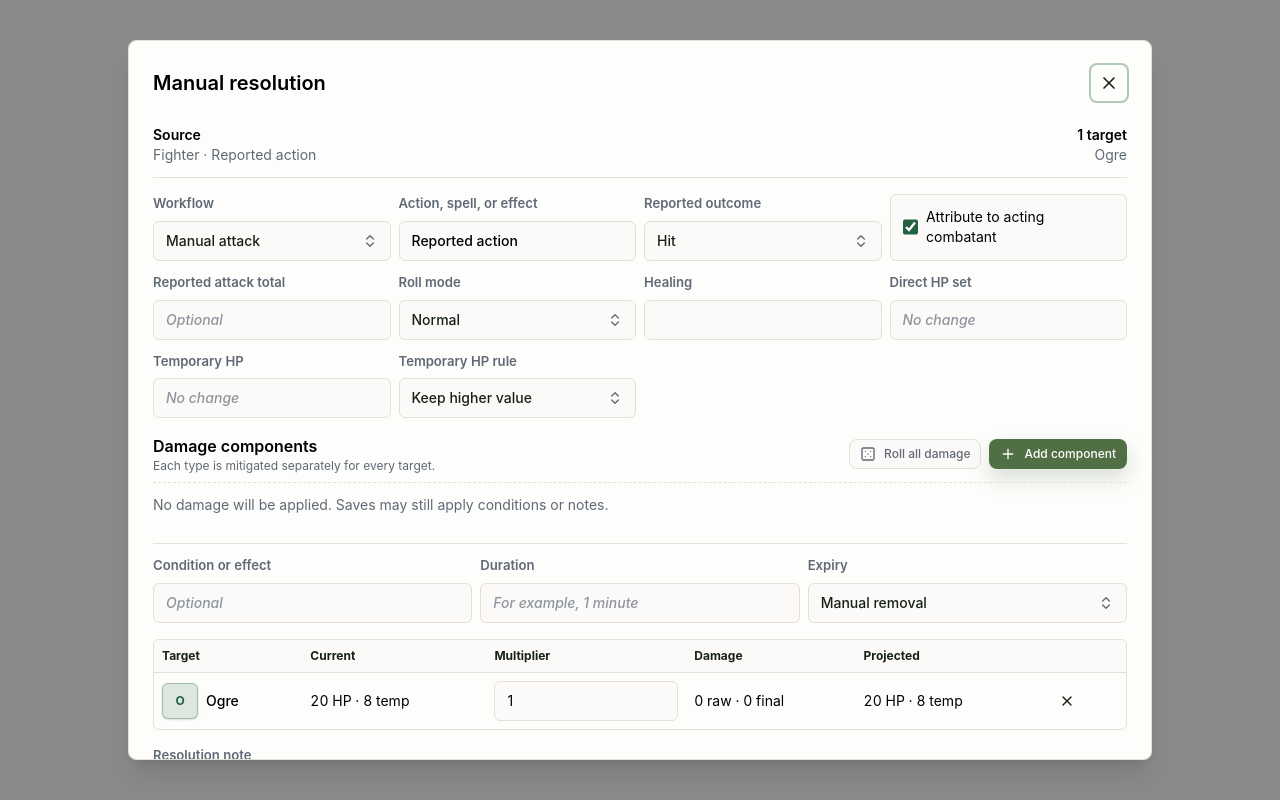
Test: ManualResolutionDialog › requires confirmation before replacing higher temporary HP
In the number field labelled "Temporary HP": (272, 398) x1=153 y1=378 x2=390 y2=418, type "3"
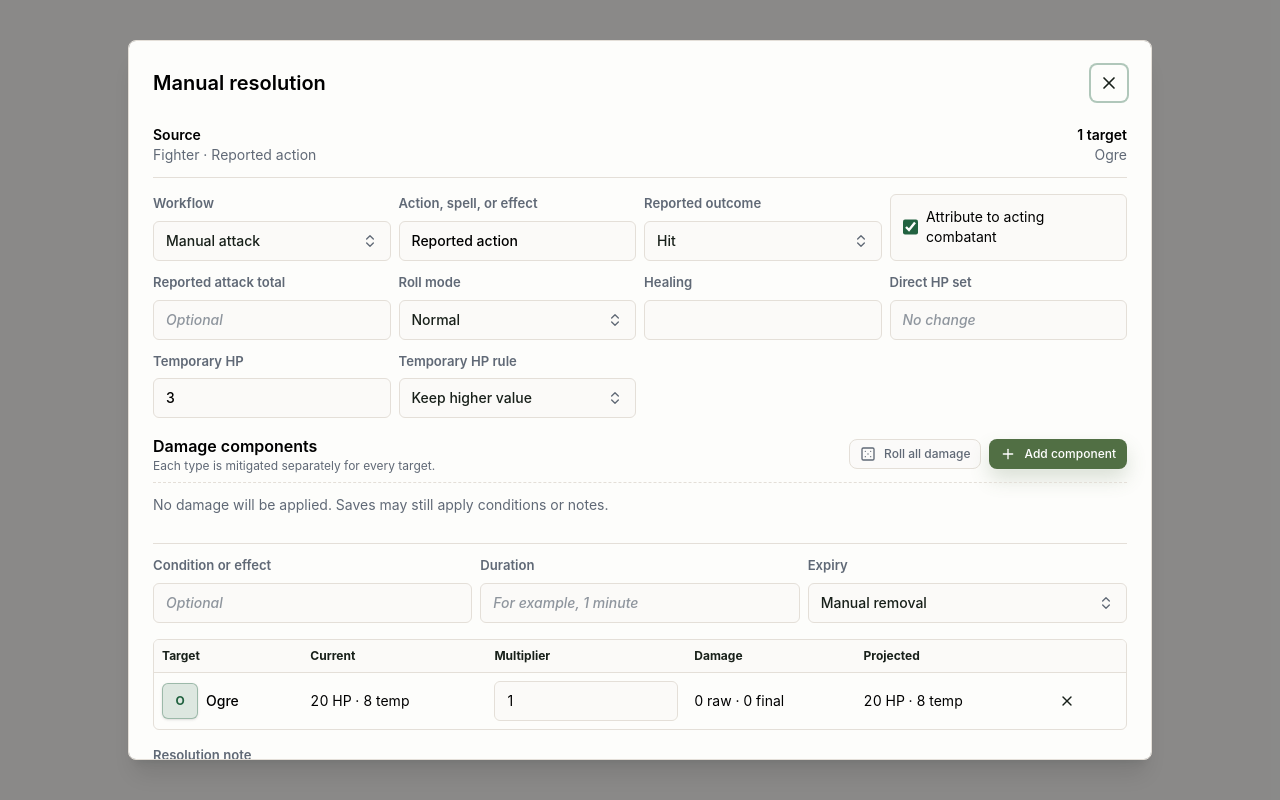
Click the dropdown labelled "Keep higher value": click(517, 398) x1=398 y1=378 x2=636 y2=418
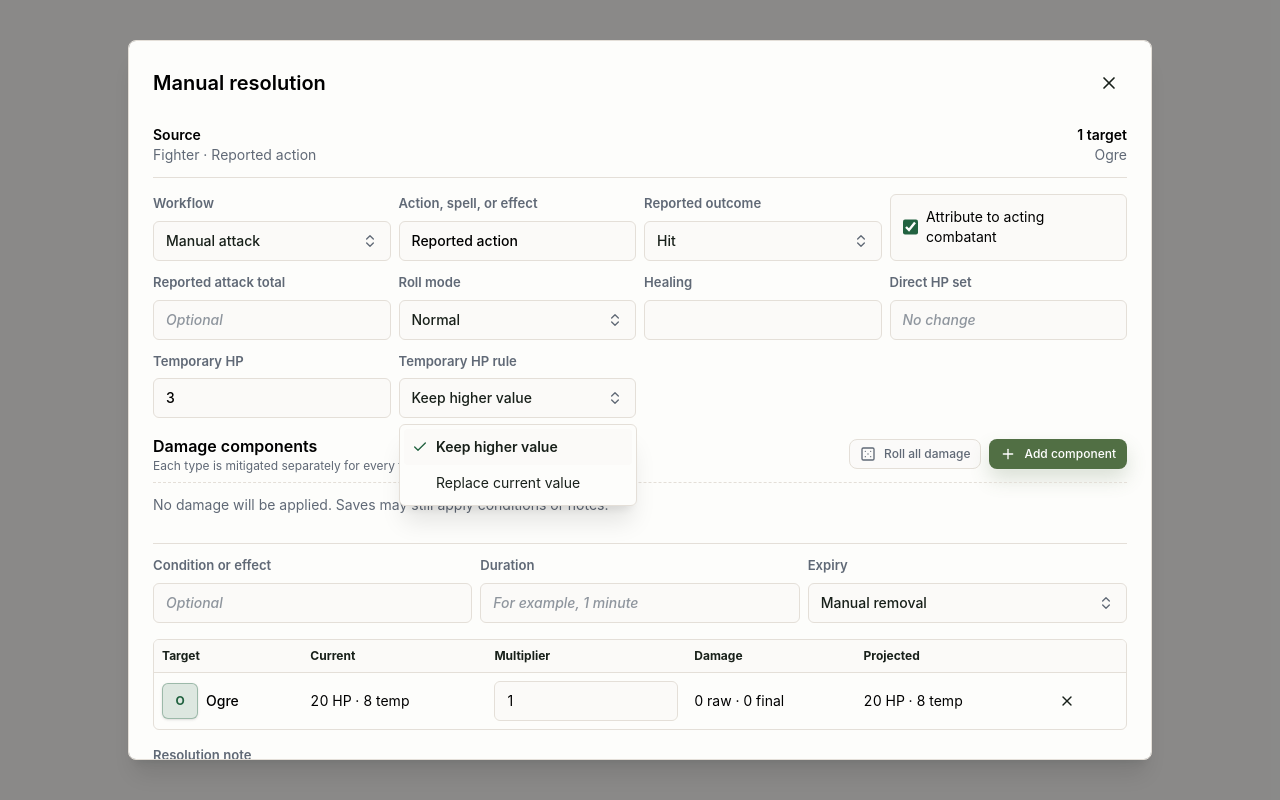
Click the option "Replace current value": click(508, 482) x1=436 y1=474 x2=580 y2=491
(page scrolled)
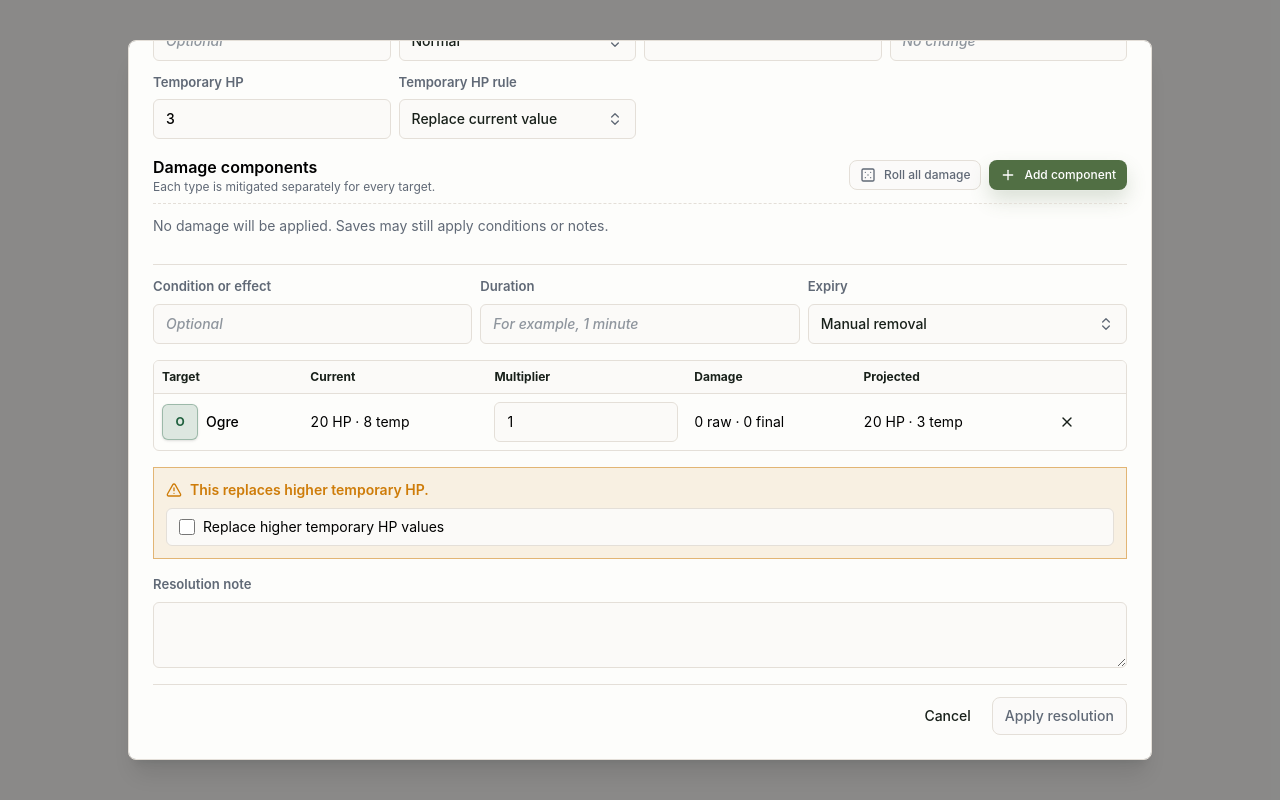
Expected: the text "This replaces higher temporary HP." is shown, x1=166 y1=481 x2=429 y2=498
Expected: the button "Apply resolution" is disabled, x1=992 y1=697 x2=1127 y2=735
Click the checkbox labelled "Replace higher temporary HP values": click(187, 527) x1=179 y1=519 x2=195 y2=535
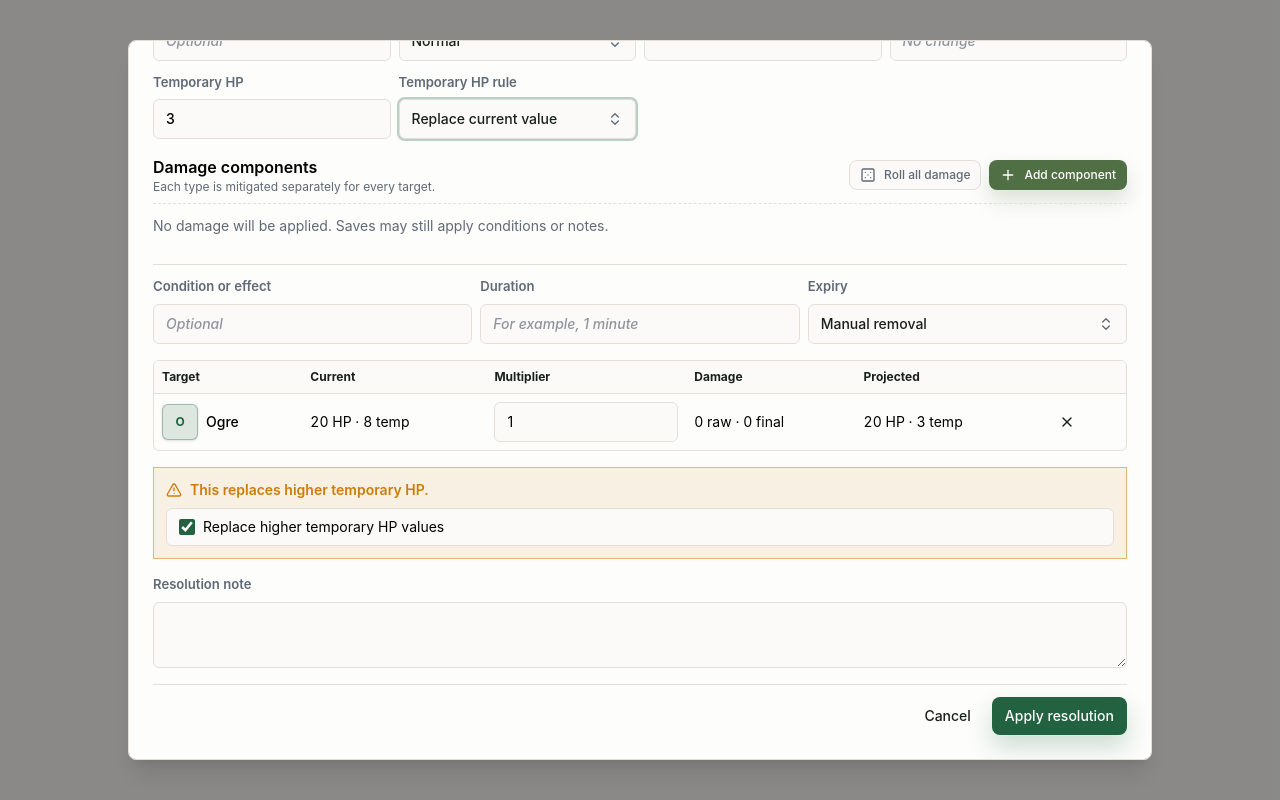
Expected: the button "Apply resolution" is enabled, x1=992 y1=697 x2=1127 y2=735
